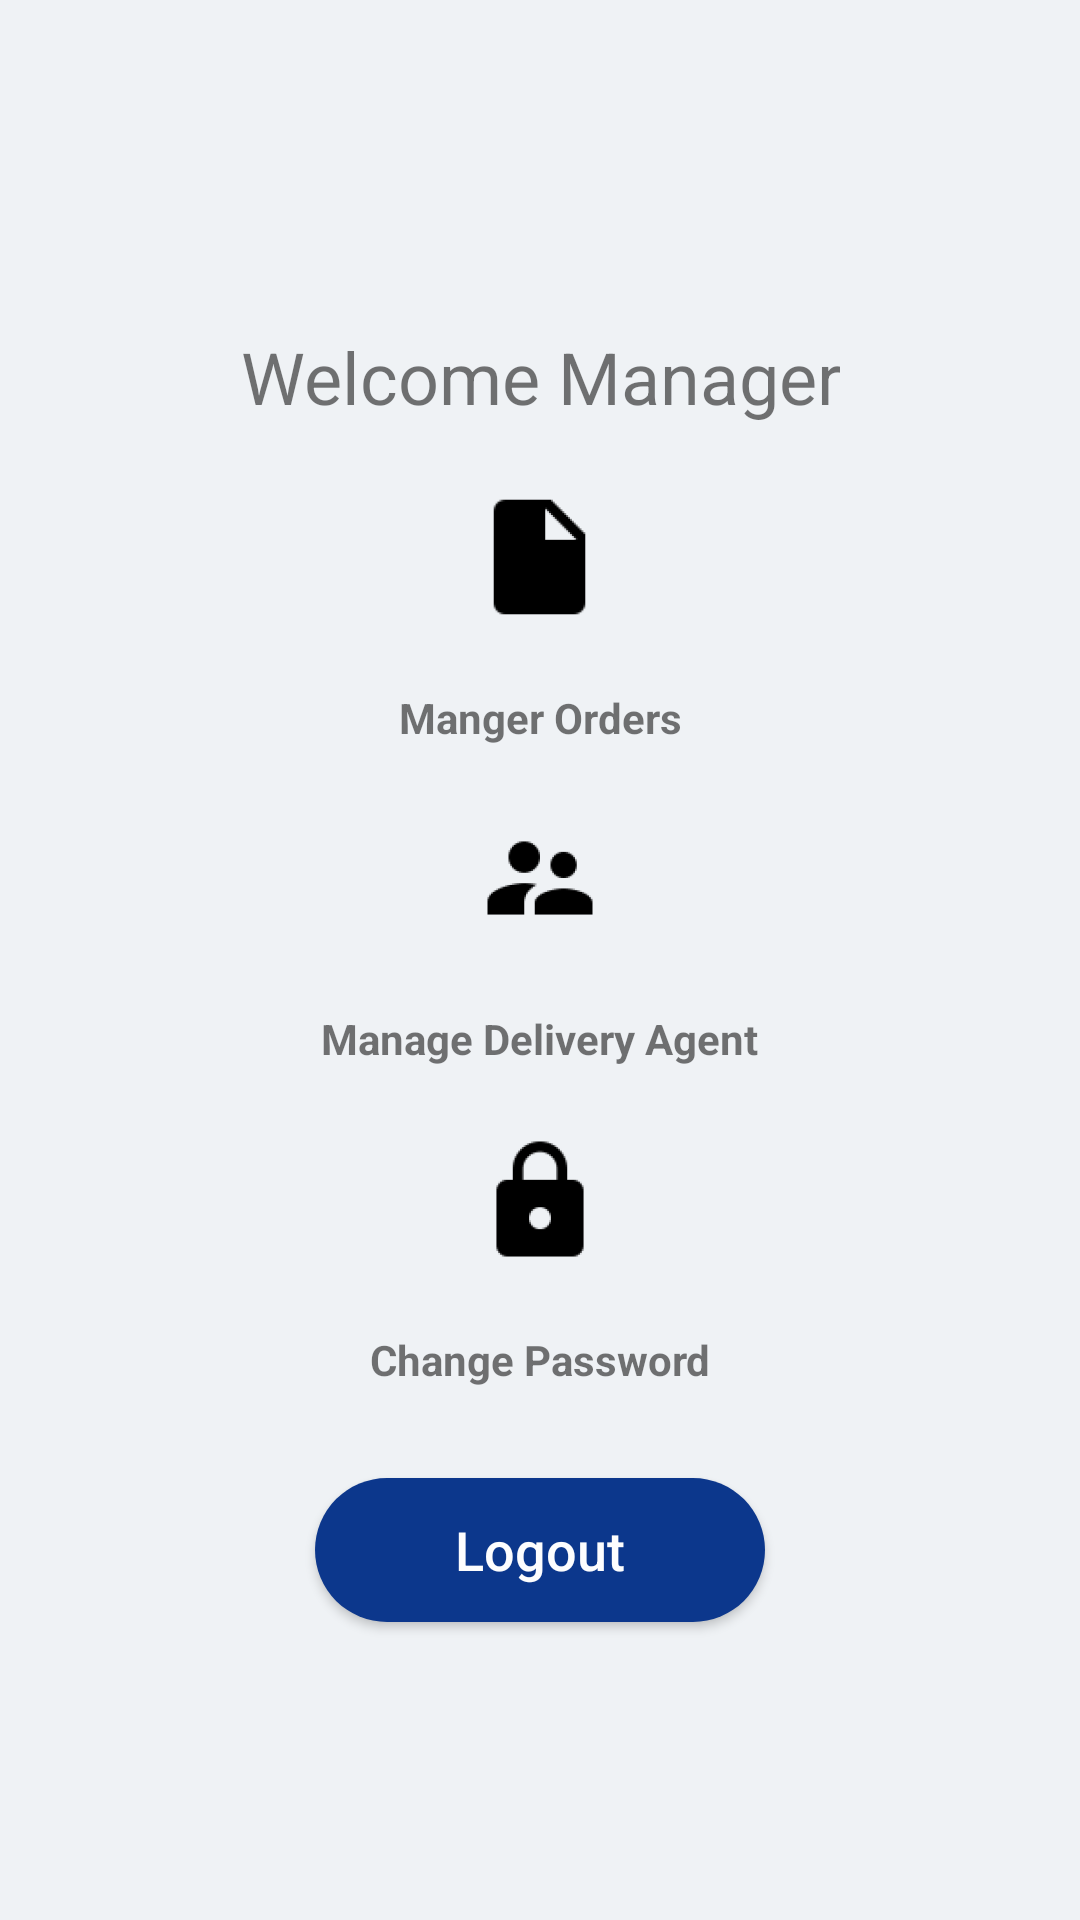

Named icons in this screenshot (1080w x 1920h) and their bounding boxes, (x1, y1, x2, y2):
manageaccount: (487, 841, 593, 915)
